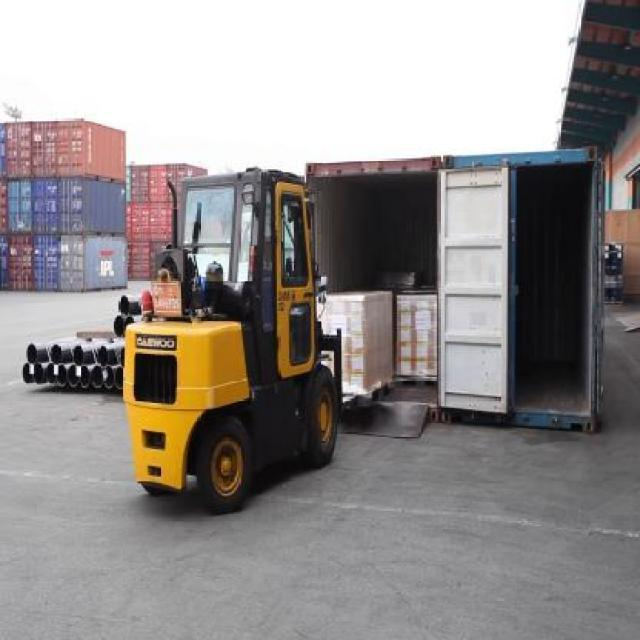forklift: (121, 165, 346, 510)
